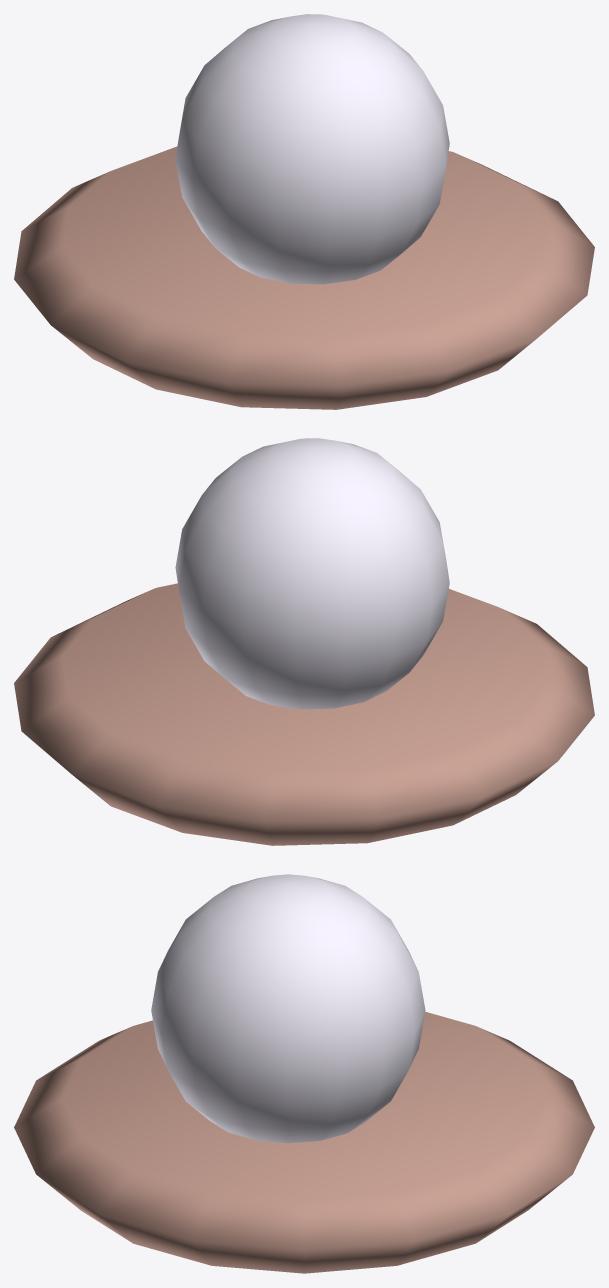
Rendered from pearl.fbx.
3 renders of one model, top to bottom at view 1: azimuth 30°, elevation 25°; view 2: azimuth 150°, elevation 25°; view 3: azimuth 270°, elevation 25°, orthographic.
Visible parts, largest first — view 1: pearl; view 2: pearl; view 3: pearl.
Boxes of the visible parts, x1,y1,x2,y2 form: pearl: (14, 14, 594, 409); pearl: (14, 438, 594, 845); pearl: (14, 874, 594, 1273).
Size of the model in its own units: 0.72 by 0.43 by 0.72.
